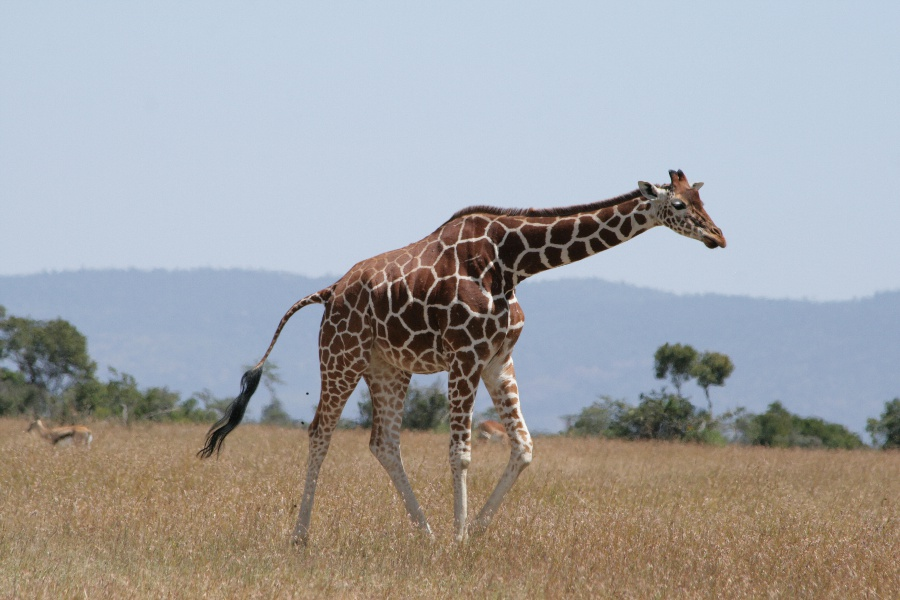giraffe: (282, 155, 735, 563)
